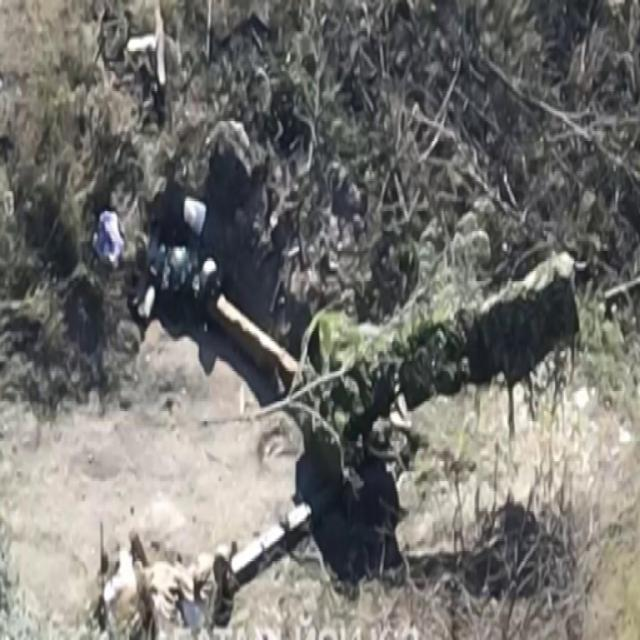ART: (93, 236, 582, 634)
